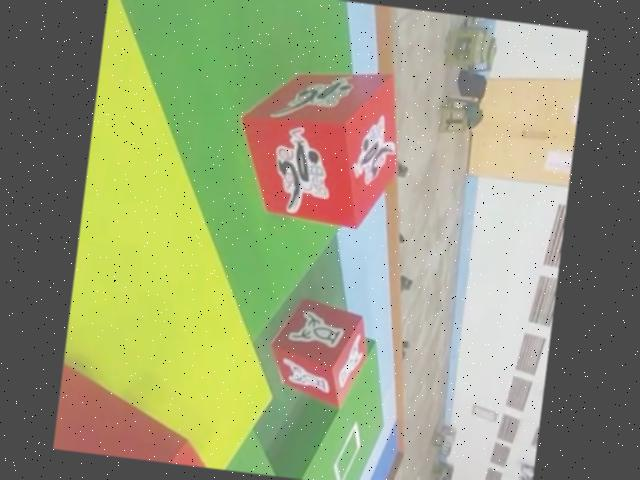R1: (228, 55, 408, 232)
R2 Real: (53, 347, 278, 475), (265, 293, 372, 407)
